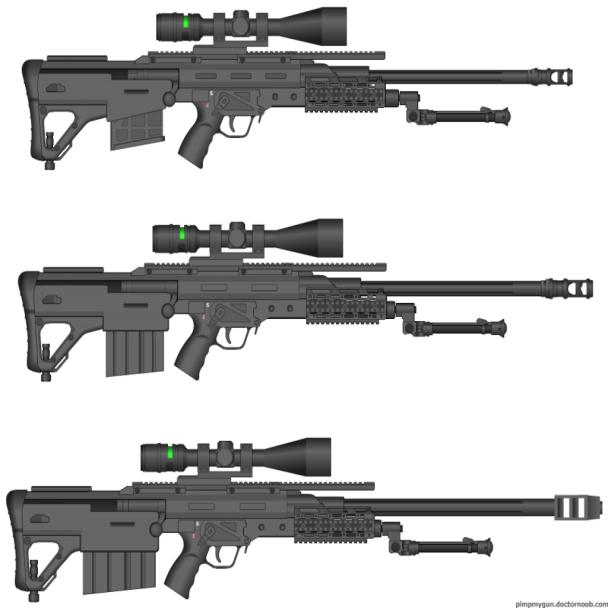Gun: (18, 0, 578, 193), (0, 427, 607, 602), (16, 209, 596, 386)
